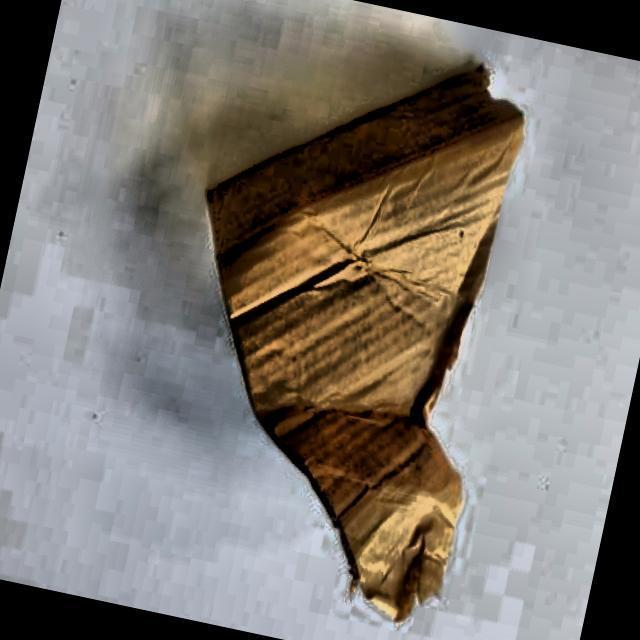cardboard: (125, 13, 552, 634)
